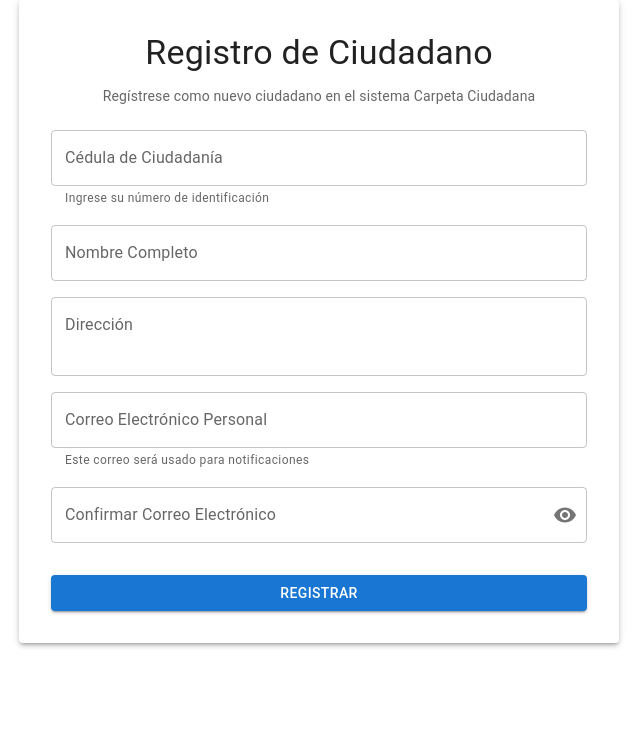
Test: RegisterCitizenForm › validates required fields and shows error messages in Spanish
Click the button "Registrar".
click(319, 593)  # box [51,575,587,611]
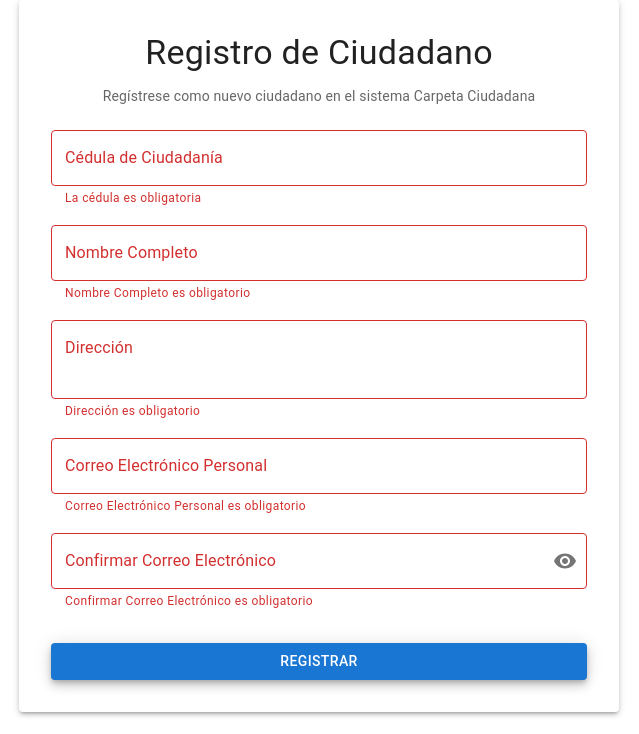
Result: the text "La cédula es obligatoria" is shown at [65,191,201,205]
Result: the text "Nombre Completo es obligatorio" is shown at [65,286,250,300]
Result: the text "Dirección es obligatorio" is shown at [65,404,200,418]
